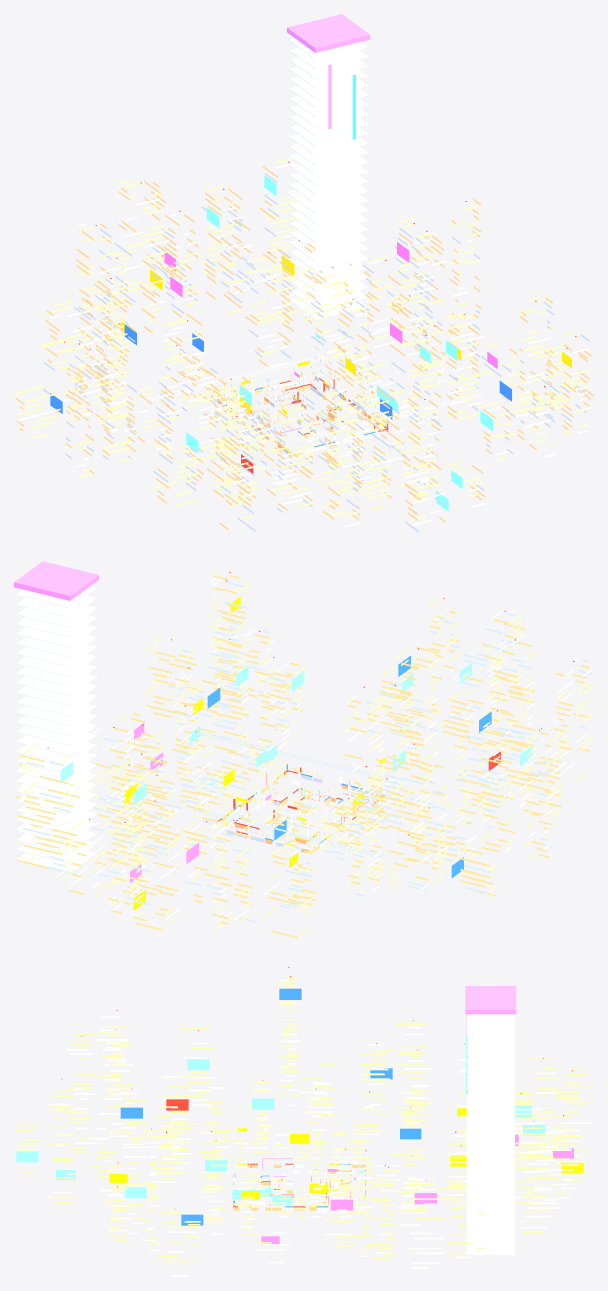
Rendered from kb-neon.glb.
The picture shows the model from 3 angles, top to bottom: view 1: azimuth 30°, elevation 25°; view 2: azimuth 150°, elevation 25°; view 3: azimuth 270°, elevation 25°; orthographic projection. The views are drawn at different scales.
Parts seen in each view (by area): view 1: gj; view 2: gj; view 3: gj.
Part boxes in pixels (left/top/right/bottom): gj: left=14, top=14, right=593, bottom=532; gj: left=14, top=561, right=593, bottom=938; gj: left=14, top=967, right=593, bottom=1276.
Size of the model in its own units: 294 by 173 by 364.
